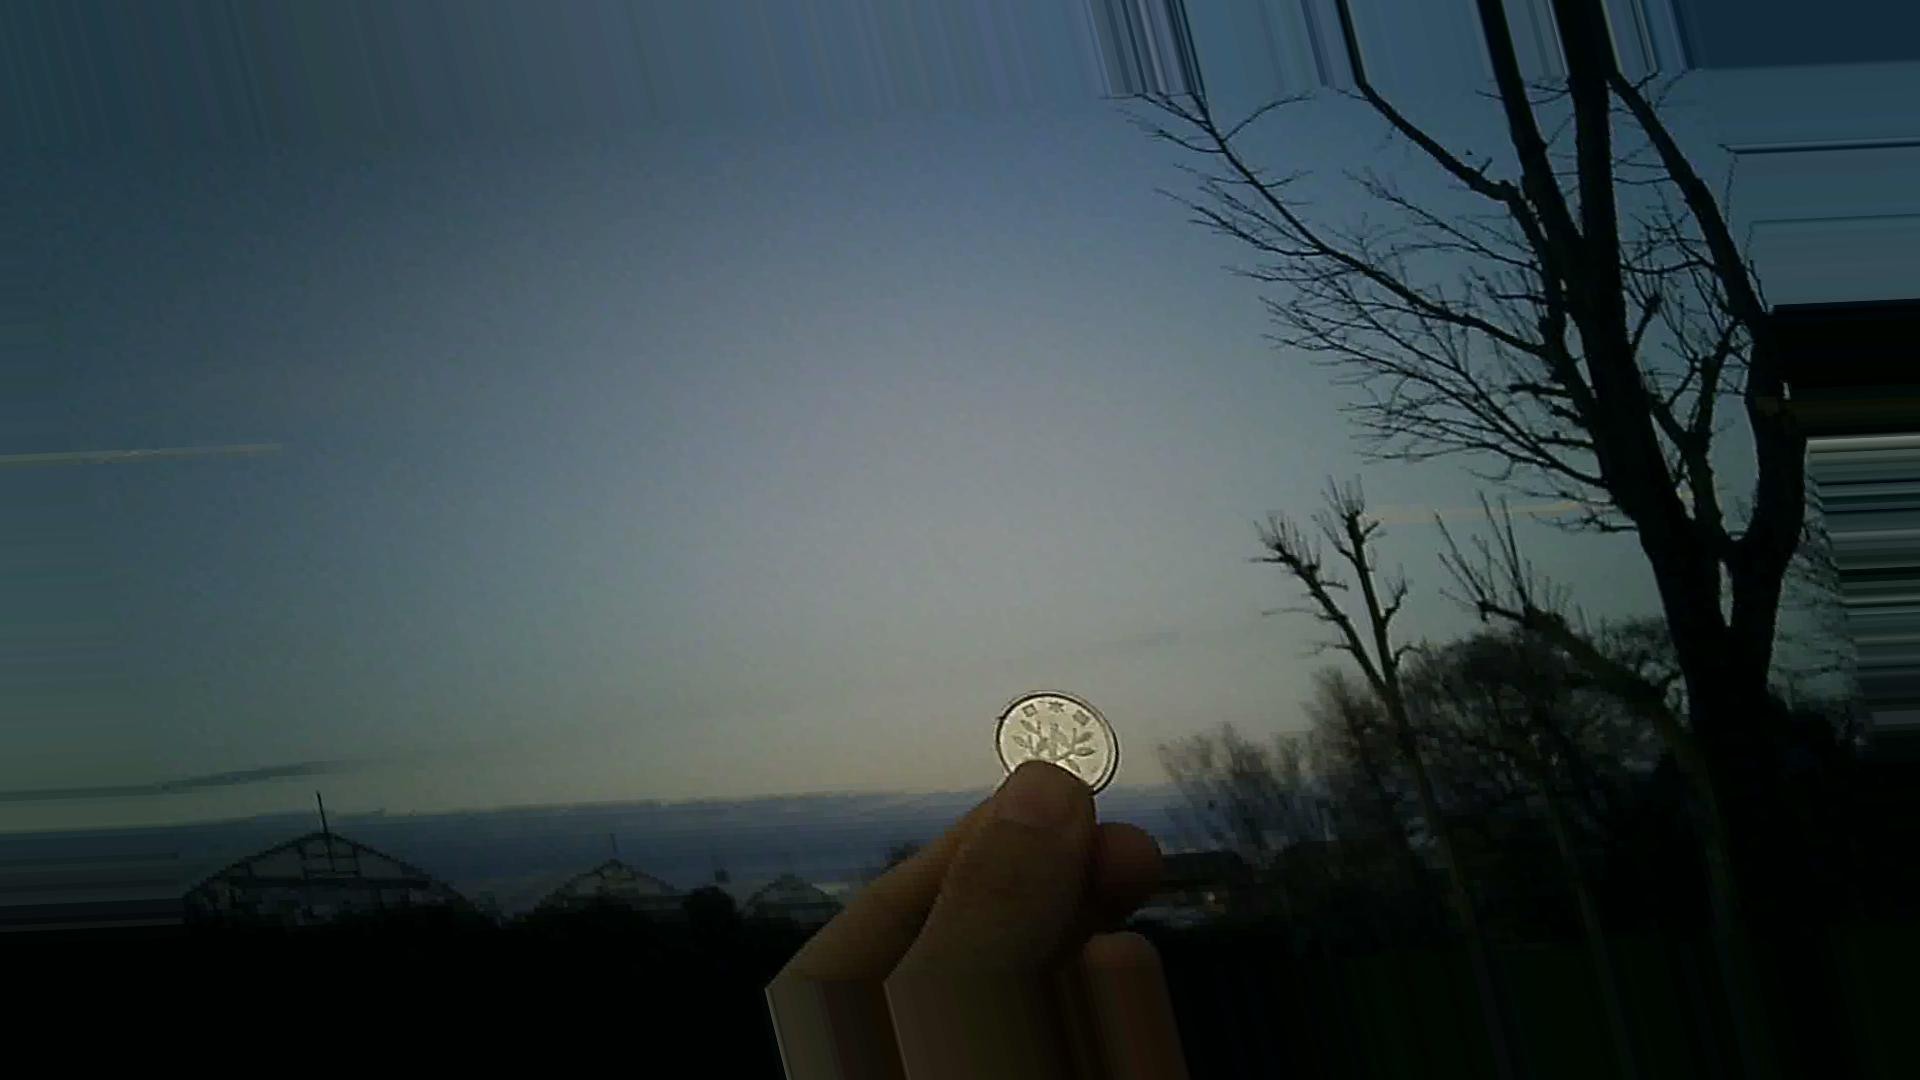1 Yen: (989, 682, 1117, 796)
